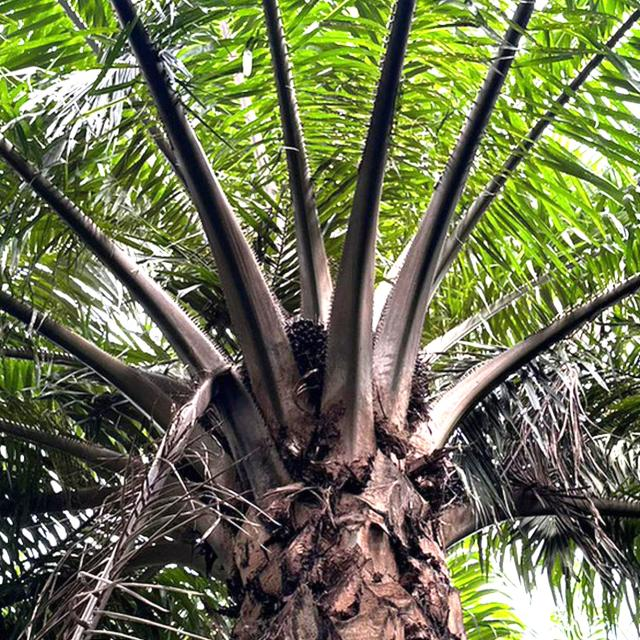almost: (279, 314, 340, 398)
